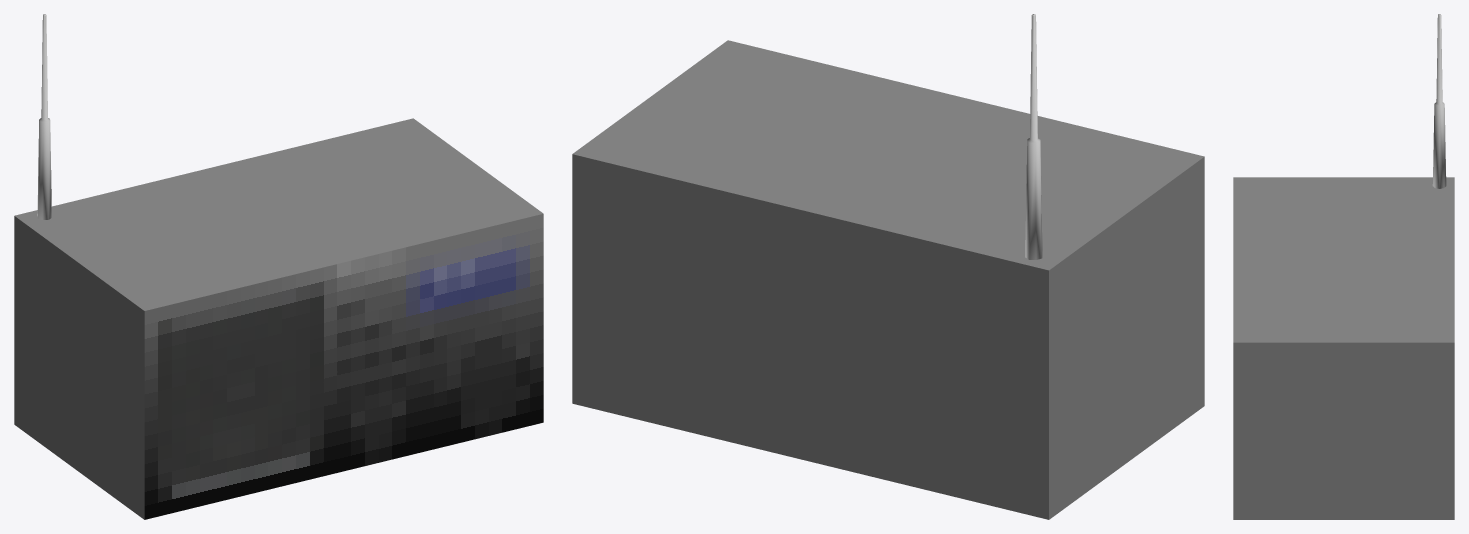
3 views of the same model, side by side, from view 1: azimuth 30°, elevation 25°; view 2: azimuth 150°, elevation 25°; view 3: azimuth 270°, elevation 25° (orthographic). The views are drawn at different scales.
Visible parts, largest first — view 1: cube1_Radio, cube1_Radio_Aerial; view 2: cube1_Radio, cube1_Radio_Aerial; view 3: cube1_Radio, cube1_Radio_Aerial.
Boxes of the visible parts, box(x1,y1,x2,y2) form: cube1_Radio: box(14, 118, 543, 519); cube1_Radio_Aerial: box(37, 14, 51, 219); cube1_Radio: box(572, 40, 1204, 519); cube1_Radio_Aerial: box(1025, 14, 1042, 259); cube1_Radio: box(1233, 177, 1454, 519); cube1_Radio_Aerial: box(1432, 14, 1446, 188).
Size of the model in its own units: 4 by 3.94 by 2.26.
2 materials, 1 textured.
